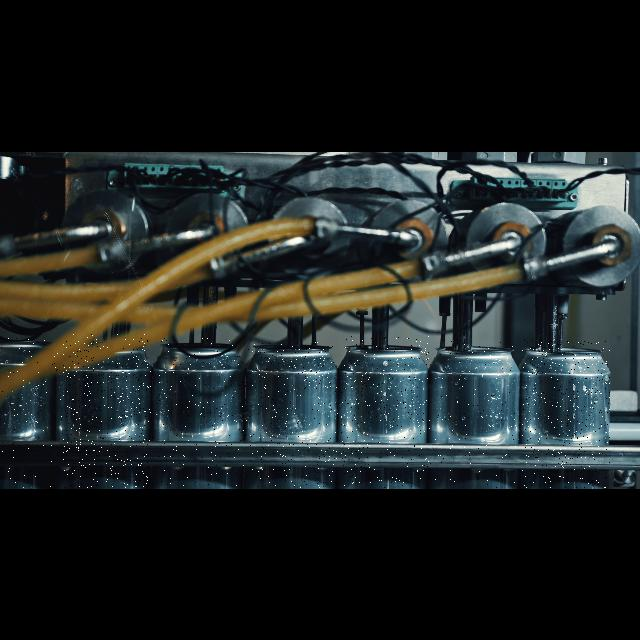empty: (341, 336, 431, 488), (63, 334, 151, 488), (159, 338, 249, 488), (522, 340, 610, 488), (250, 342, 338, 488), (434, 338, 516, 488), (0, 334, 62, 488)
